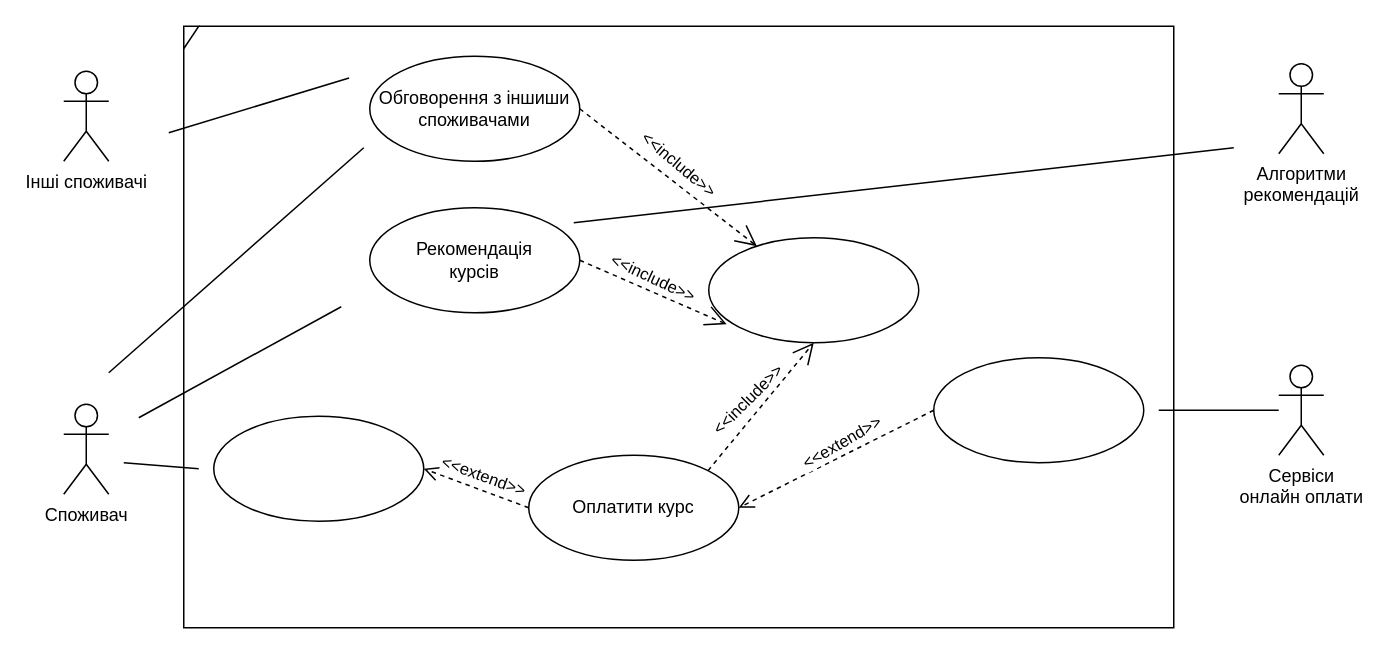
The diagram is 1389 pixels wide and 654 high, and some of its shapes have lost their labels. Here are the shapes that lost their labels. From the top down, the box of each, then its label:
(707, 236, 919, 343): Авторизувати споживача
(932, 356, 1144, 463): Онлайн оплата
(212, 415, 424, 521): Отримати курс
